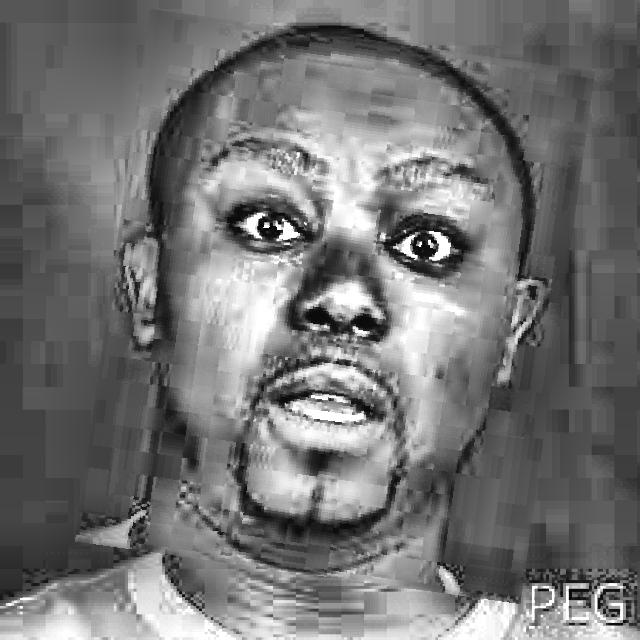surprise: (92, 24, 578, 590)
